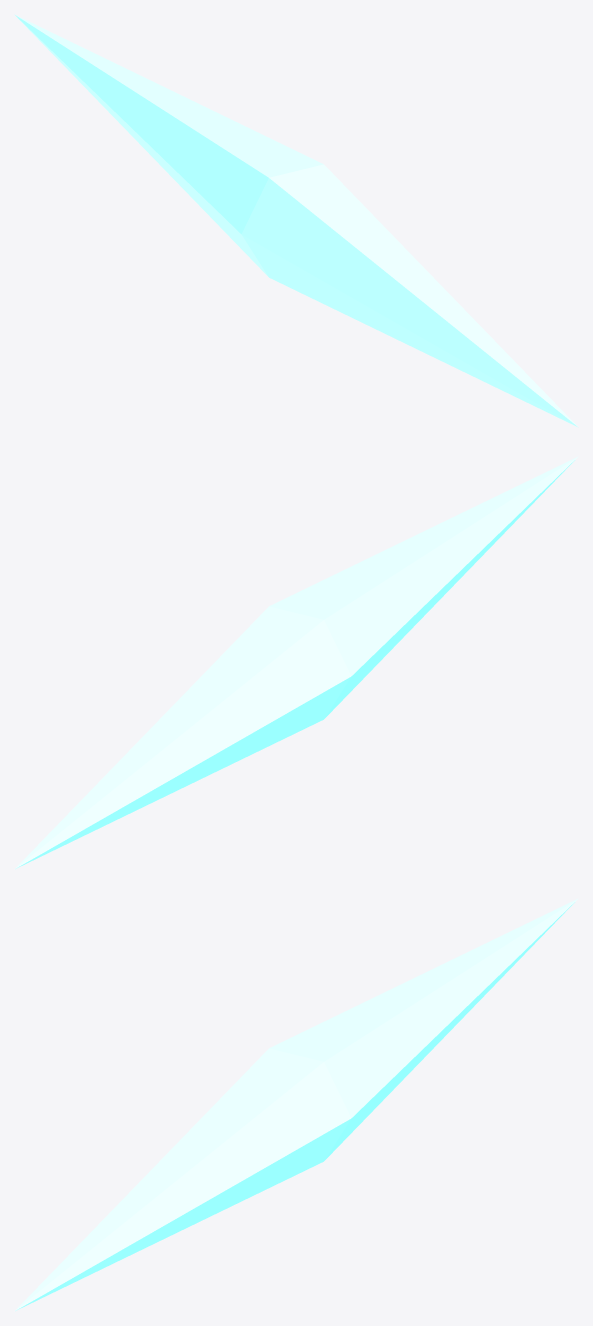
File: bolt.glb
3 renders of one model, top to bottom at view 1: azimuth 30°, elevation 25°; view 2: azimuth 150°, elevation 25°; view 3: azimuth 330°, elevation 25°, orthographic.
Parts seen in each view (by area): view 1: bolt; view 2: bolt; view 3: bolt.
Boxes of the visible parts, x1,y1,x2,y2 form: bolt: (14, 14, 578, 427); bolt: (14, 456, 578, 869); bolt: (14, 898, 578, 1311).
Bounding box in the file's own units: 0.18 × 0.1559 × 1.6.
